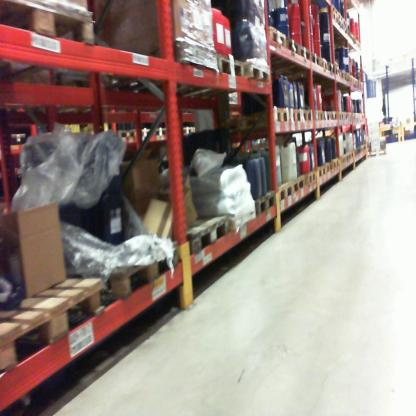pallet: (1, 275, 107, 382), (99, 36, 227, 103), (3, 2, 101, 83), (86, 238, 179, 310), (164, 51, 245, 113), (173, 211, 232, 271), (221, 104, 293, 135), (273, 41, 312, 70), (245, 58, 273, 94), (272, 36, 301, 61), (253, 187, 278, 215), (264, 26, 288, 53), (140, 124, 171, 141), (7, 132, 33, 152), (275, 180, 294, 206), (310, 3, 339, 16), (300, 106, 315, 128), (118, 127, 139, 142), (367, 142, 386, 158), (303, 170, 319, 188), (290, 106, 305, 124), (307, 53, 320, 73), (323, 16, 340, 31), (292, 176, 305, 193), (317, 107, 328, 125), (316, 57, 330, 71), (320, 161, 333, 174), (329, 157, 341, 170), (315, 165, 327, 177), (180, 124, 192, 134), (329, 61, 337, 75), (330, 110, 337, 125)
